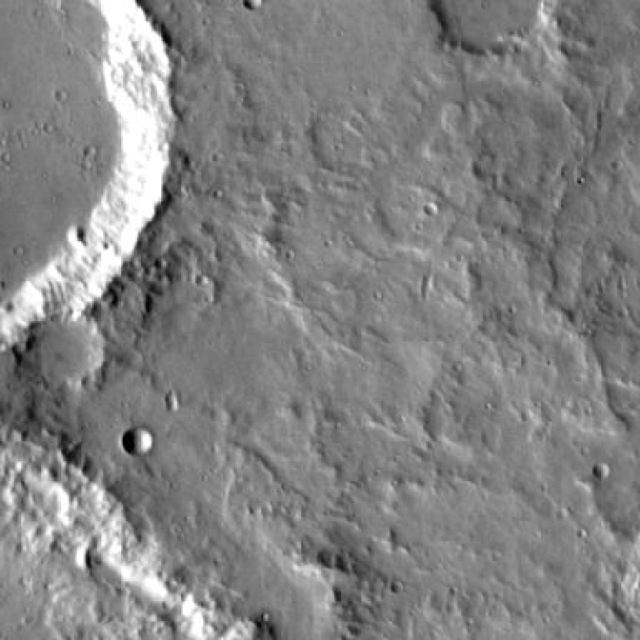crater: (0, 0, 177, 348), (23, 309, 106, 389), (432, 0, 548, 54), (122, 426, 153, 456), (592, 460, 610, 478)
